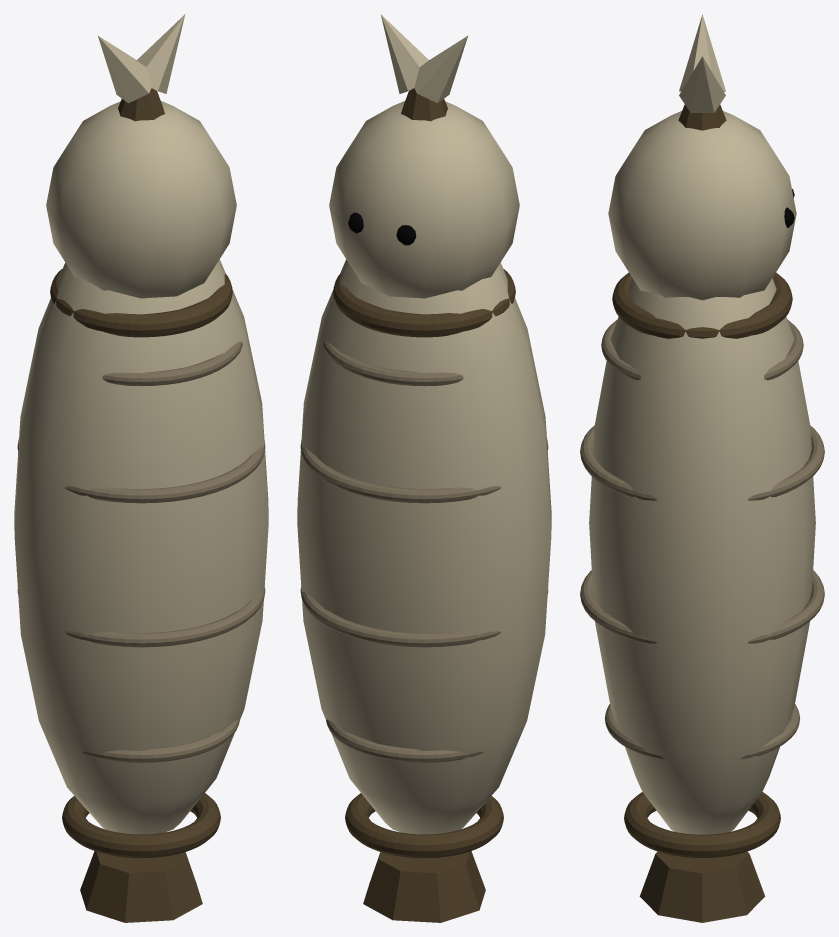
Rendered from mob_pocong.obj.
3 views of the same model, side by side, from view 1: azimuth 30°, elevation 25°; view 2: azimuth 150°, elevation 25°; view 3: azimuth 270°, elevation 25° (orthographic).
Parts seen in each view (by area): view 1: mob_pocong; view 2: mob_pocong; view 3: mob_pocong.
Part boxes in pixels (bbox=[...]): mob_pocong: bbox=[14, 14, 268, 922]; mob_pocong: bbox=[297, 14, 551, 922]; mob_pocong: bbox=[580, 14, 824, 922].
Size of the model in its own units: 0.663 by 2.42 by 0.624.
